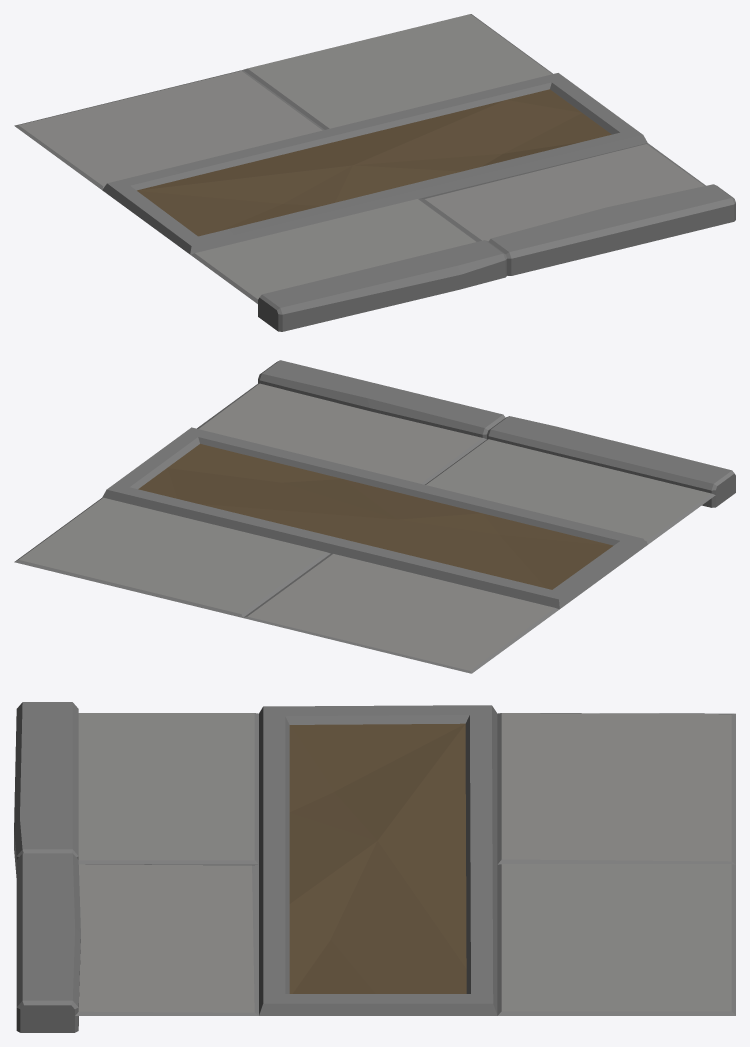
Rendered from SM_Envr_Road_Sidewalk_02.fbx.
3 renders of one model, top to bottom at view 1: azimuth 30°, elevation 25°; view 2: azimuth 150°, elevation 25°; view 3: azimuth 270°, elevation 25°, orthographic. The views are drawn at different scales.
Visible parts, largest first — view 1: SM_Envr_Road_Sidewalk_02; view 2: SM_Envr_Road_Sidewalk_02; view 3: SM_Envr_Road_Sidewalk_02.
Boxes of the visible parts, x1,y1,x2,y2 form: SM_Envr_Road_Sidewalk_02: (14, 14, 735, 331); SM_Envr_Road_Sidewalk_02: (14, 360, 735, 673); SM_Envr_Road_Sidewalk_02: (14, 702, 735, 1032).
Bounding box in the file's own units: 500 × 25.53 × 505.
